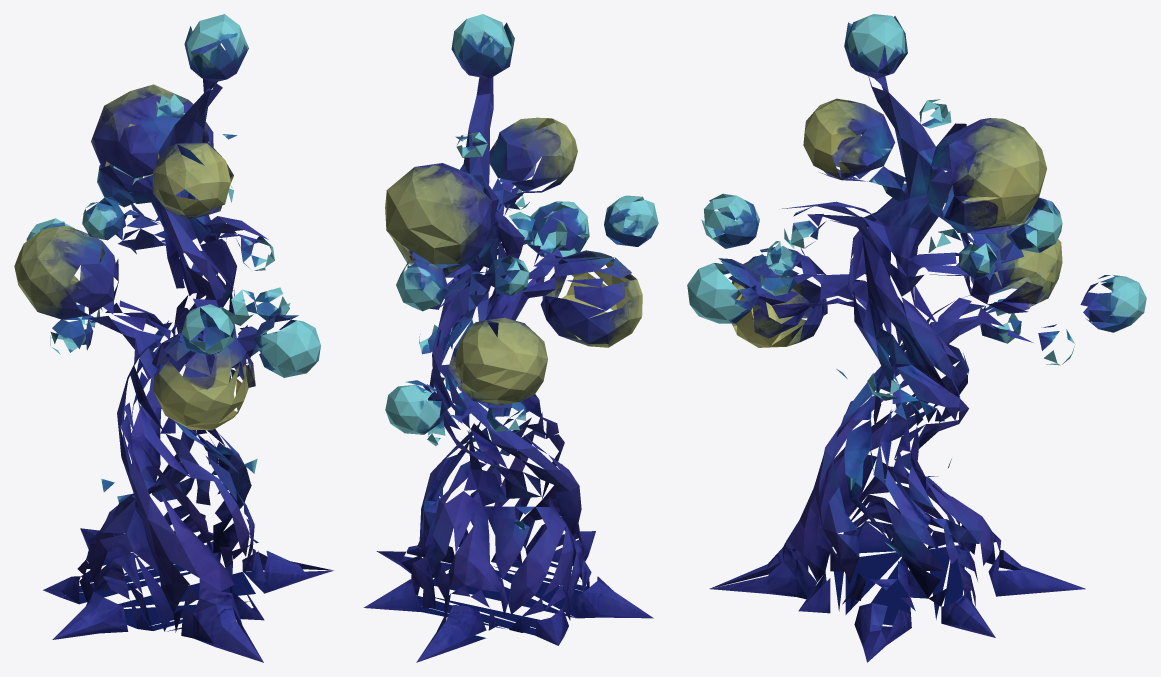
Rendered from tree_alien_LOD1.glb.
3 views of the same model, side by side, from view 1: azimuth 30°, elevation 25°; view 2: azimuth 150°, elevation 25°; view 3: azimuth 270°, elevation 25° (orthographic). The views are drawn at different scales.
Visible parts, largest first — view 1: tree_alien_LOD1; view 2: tree_alien_LOD1; view 3: tree_alien_LOD1.
Part boxes in pixels (<box>): tree_alien_LOD1: <box>14,14,333,662</box>; tree_alien_LOD1: <box>363,14,658,662</box>; tree_alien_LOD1: <box>687,14,1146,662</box>.
Bounding box in the file's own units: 0.5144 × 0.9995 × 0.7042.
1 material, 1 textured.
